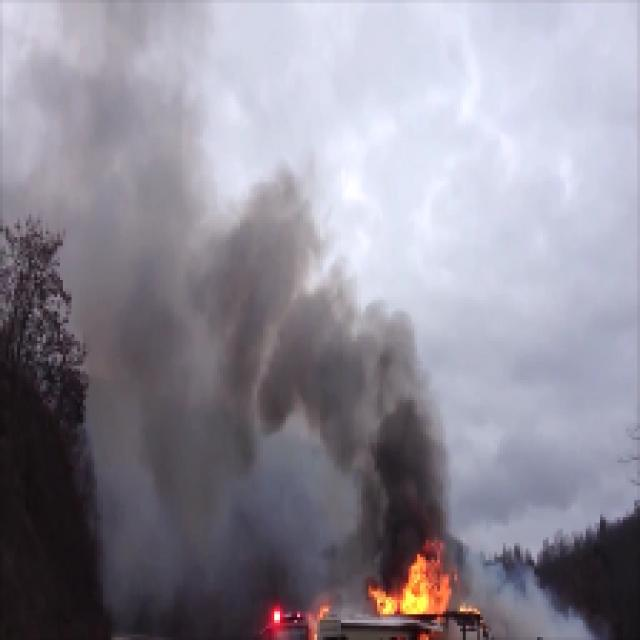fire: (378, 561, 452, 617)
smoke: (150, 296, 360, 417), (369, 410, 442, 558)
